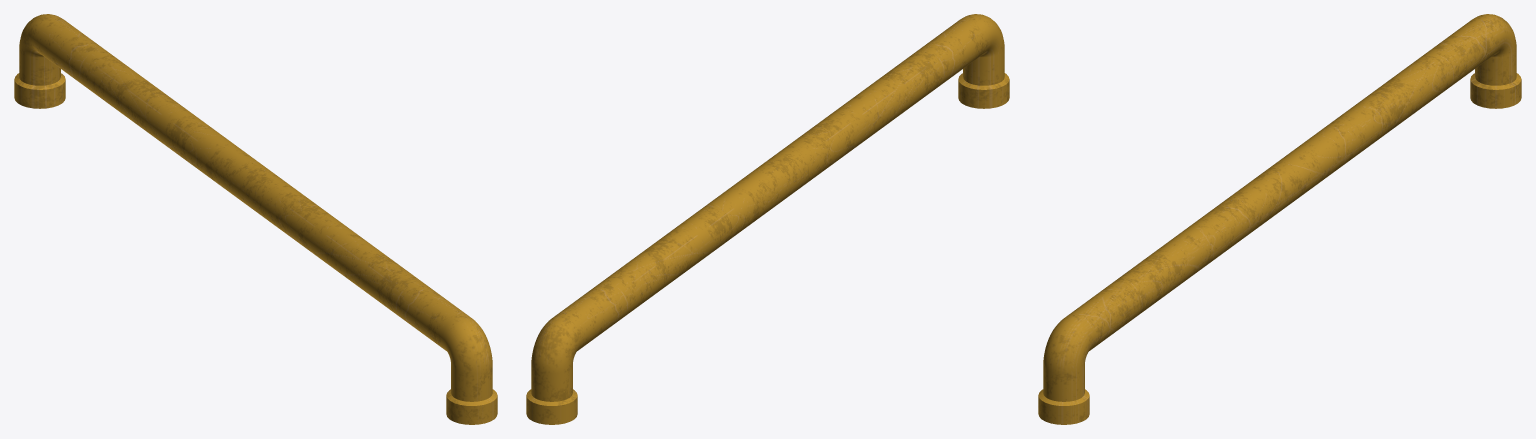
File: razdelitel.fbx
3 renders of one model, left to right at view 1: azimuth 30°, elevation 25°; view 2: azimuth 150°, elevation 25°; view 3: azimuth 330°, elevation 25°, orthographic.
Visible parts, largest first — view 1: bake; view 2: bake; view 3: bake.
Boxes of the visible parts, box(x1,y1,x2,y2) form: bake: box(14, 14, 497, 424); bake: box(526, 14, 1009, 424); bake: box(1038, 14, 1521, 424).
Size of the model in its own units: 19.69 by 37.76 by 352.
1 material, 1 textured.
